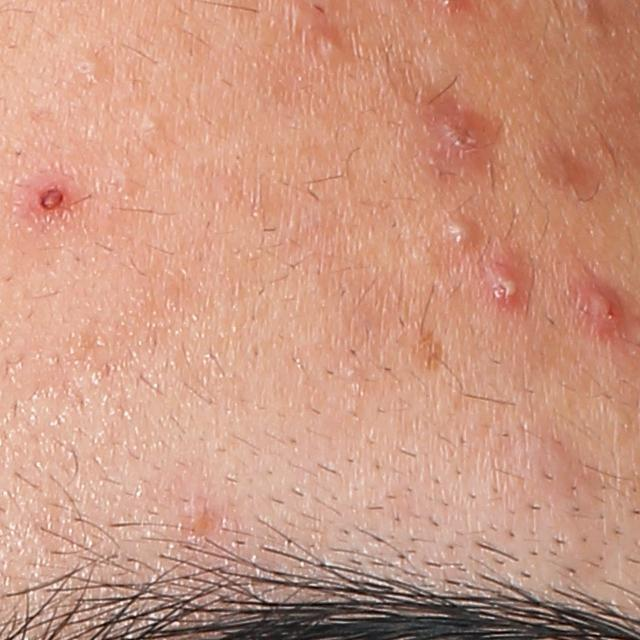comedo: (143, 116, 163, 136)
papule: (430, 104, 498, 160), (572, 278, 629, 334), (29, 174, 82, 216)
